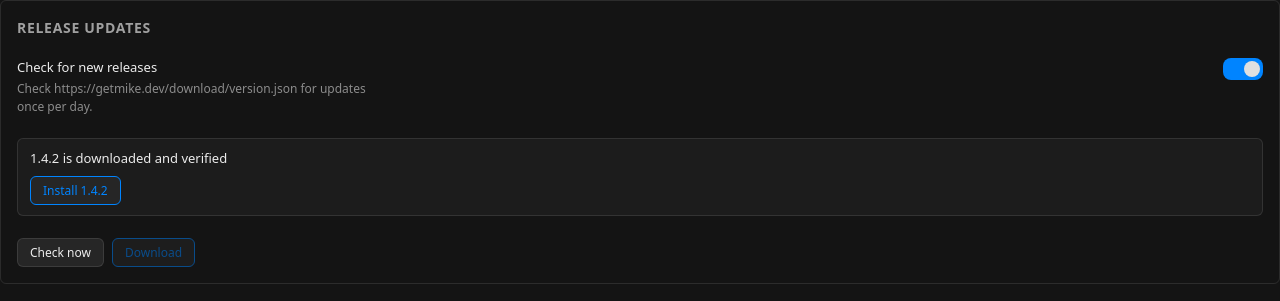
Test case: an action that was refused › shows the server's sentence beside the buttons rather than as a toast
Click the button with test id "update-install": coordinates (75, 190) [30, 176, 121, 205]
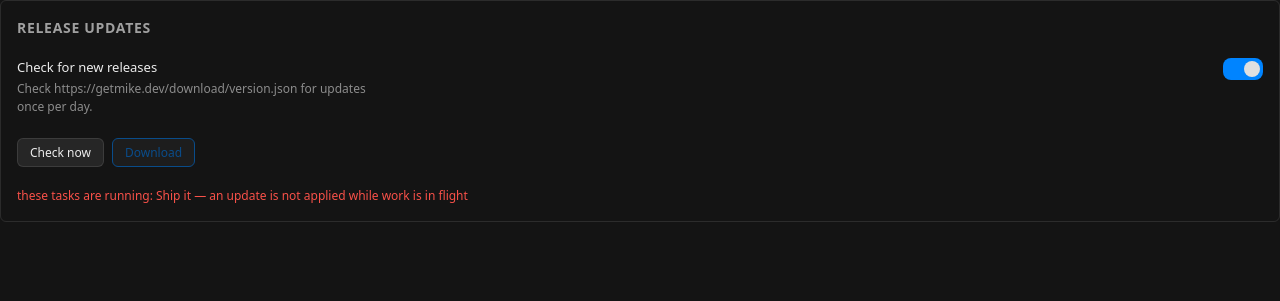
Check: the text "an update is not applied while work is in flight" is shown, box [17, 186, 468, 204]
